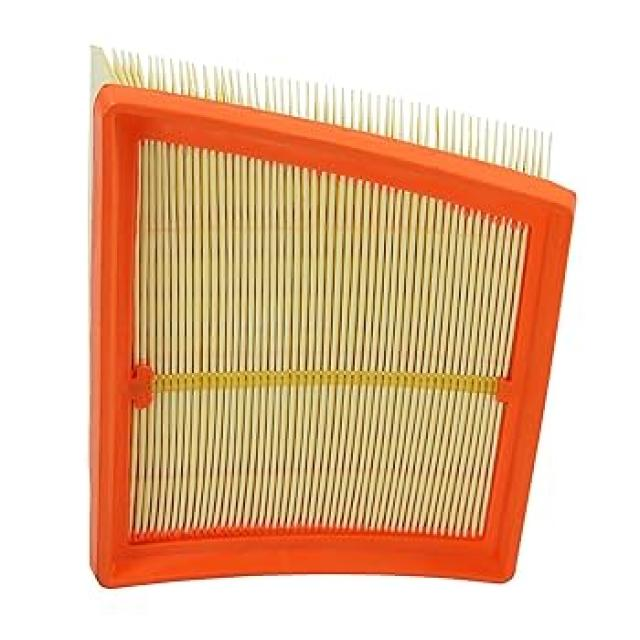air_filter: (83, 42, 580, 587)
